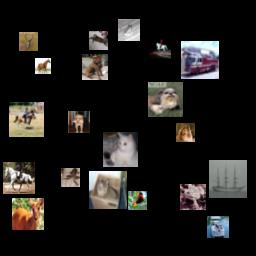bird: (128, 191, 147, 210)
cat: (89, 171, 127, 209), (103, 132, 138, 167), (89, 31, 108, 50)
deer: (12, 198, 44, 230), (19, 32, 38, 51)
dog: (148, 82, 183, 117), (82, 54, 108, 80), (68, 111, 90, 133), (176, 123, 195, 142)
frog: (180, 184, 206, 210), (118, 19, 140, 41), (61, 168, 80, 187)
ship: (209, 160, 247, 198), (207, 216, 229, 238)
truck: (181, 41, 219, 79)
